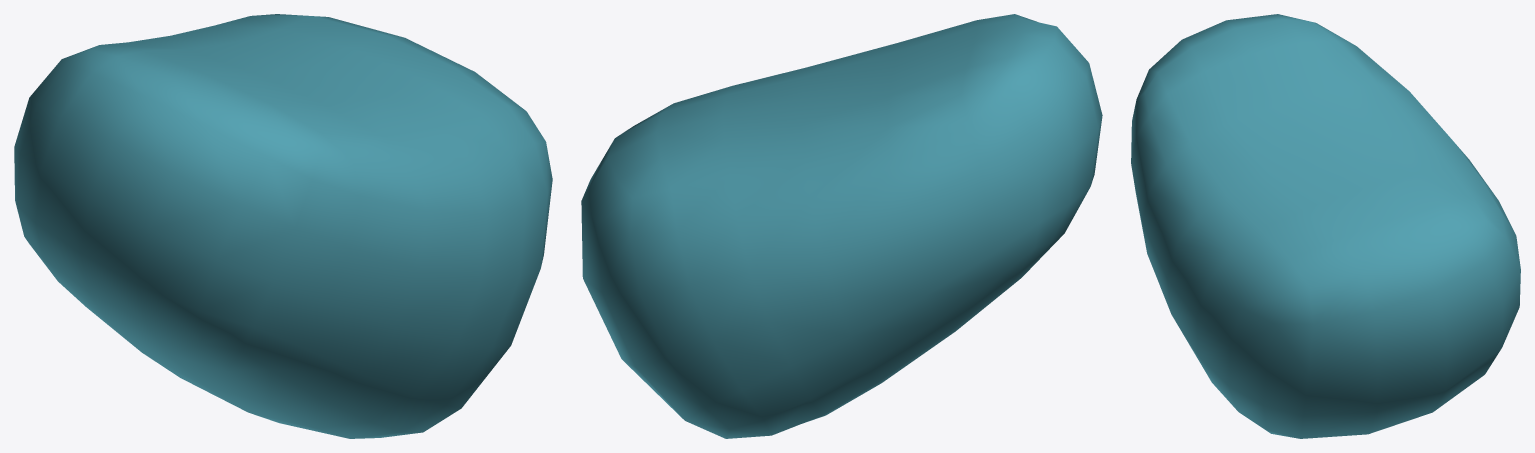
The model's file is VIS_Alpha_Surface_036.dae.
The picture shows the model from 3 angles, left to right: view 1: azimuth 30°, elevation 25°; view 2: azimuth 150°, elevation 25°; view 3: azimuth 270°, elevation 25°; orthographic projection. The views are drawn at different scales.
Parts seen in each view (by area): view 1: VIS_Alpha_Surface_036; view 2: VIS_Alpha_Surface_036; view 3: VIS_Alpha_Surface_036.
Part boxes in pixels (box(x1,y1,x2,y2)): VIS_Alpha_Surface_036: box(14, 14, 552, 438); VIS_Alpha_Surface_036: box(581, 14, 1102, 438); VIS_Alpha_Surface_036: box(1131, 14, 1520, 438).
Size of the model in its own units: 3.02 by 2.8 by 2.51.
